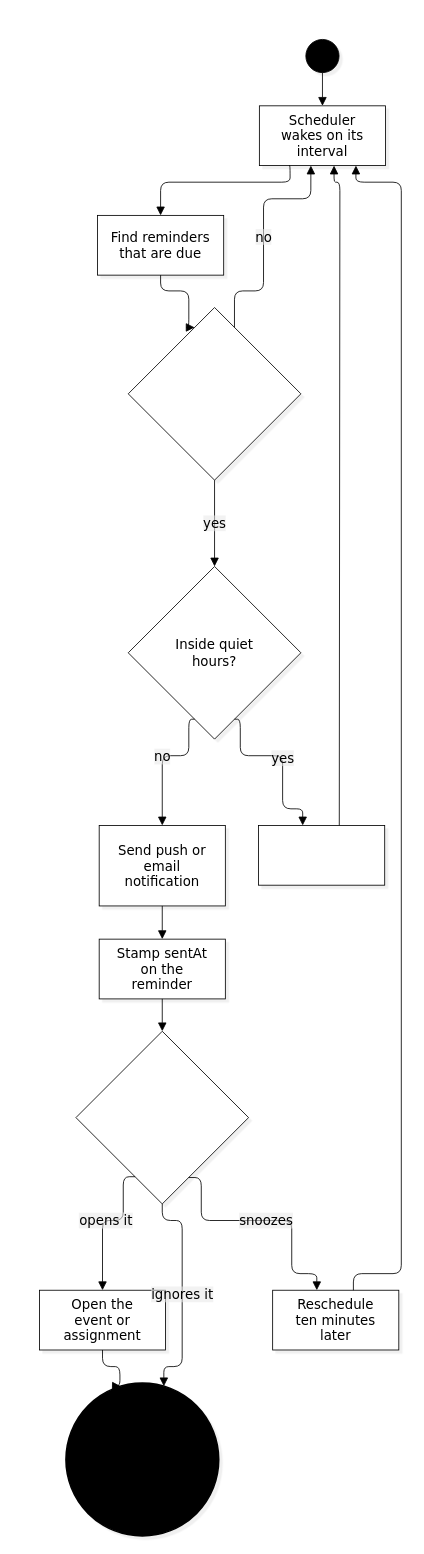
This 424x1554 diagram has some shape labels left out. The centre of each missing label's shape, as x and y in pixels:
"Any due now?" goes at point (215, 395).
"Defer until quiet hours end" goes at point (323, 857).
"End" goes at point (143, 1461).
"What does the student do?" goes at point (163, 1118).
